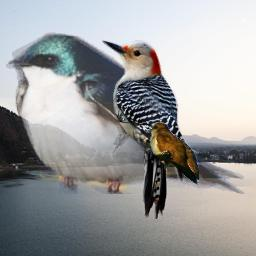Cuckoo: (146, 122, 199, 185)
Swallow: (6, 31, 244, 194)
Woodpecker: (102, 40, 186, 219)
